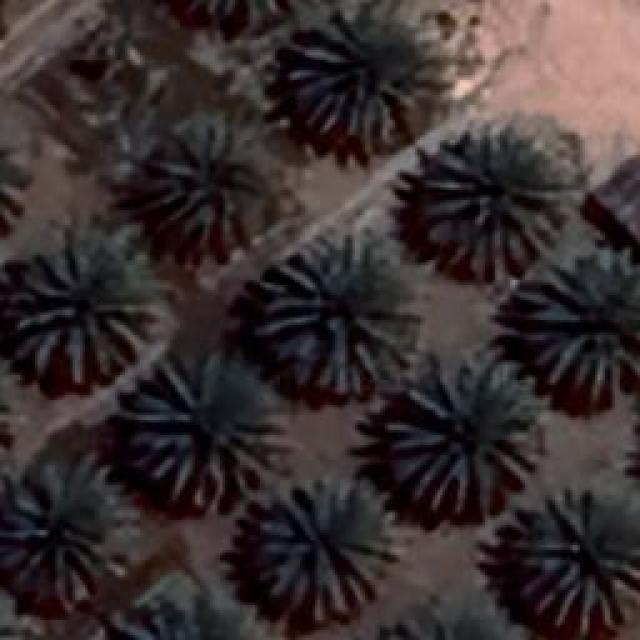PalmTree: (38, 55, 189, 612), (260, 232, 418, 398), (125, 352, 288, 510), (385, 358, 540, 520), (285, 5, 440, 153), (248, 475, 400, 620), (415, 130, 560, 282), (10, 240, 158, 382), (0, 448, 128, 608), (512, 245, 638, 400), (512, 482, 638, 636), (148, 120, 268, 245), (380, 603, 528, 640), (170, 0, 308, 21), (1, 344, 18, 470), (1, 581, 28, 640), (0, 341, 12, 471)
